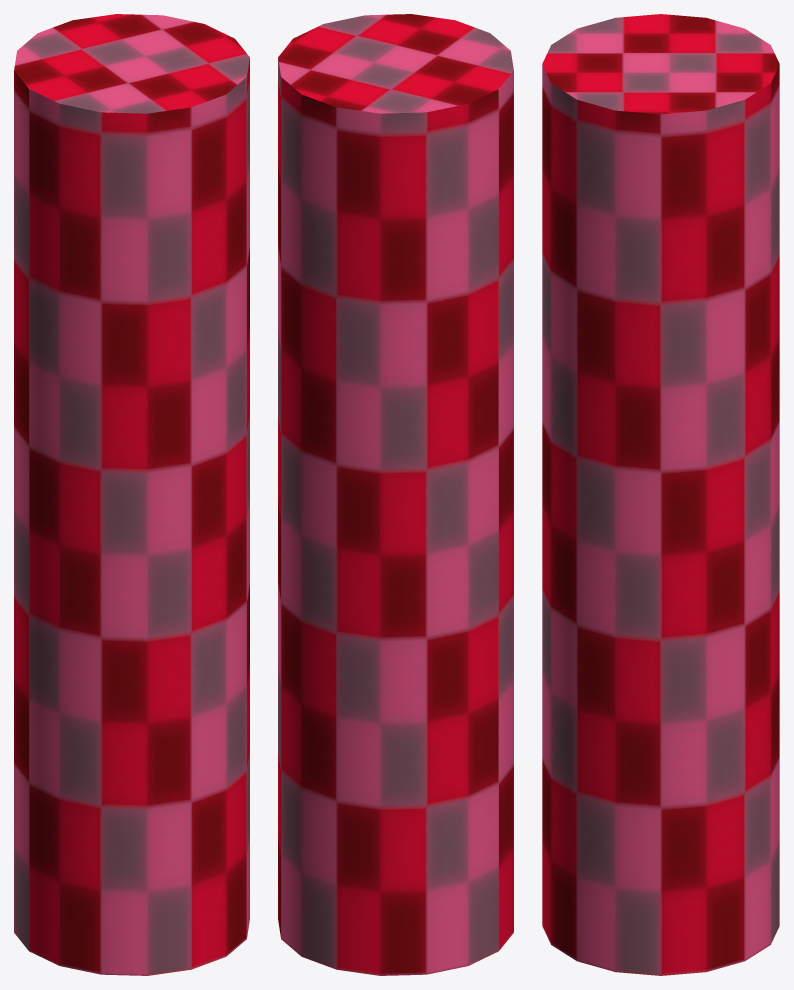
Rendered from wall_column_small.obj.
3 views of the same model, side by side, from view 1: azimuth 30°, elevation 25°; view 2: azimuth 150°, elevation 25°; view 3: azimuth 270°, elevation 25° (orthographic).
Bounding box in the file's own units: 0.5 × 2 × 0.5.
1 material, 1 textured.
